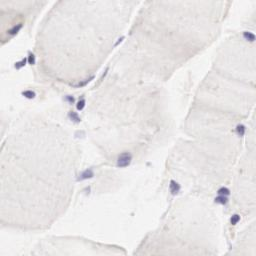nucleus: (76, 166, 96, 181), (73, 75, 95, 87), (6, 23, 23, 38), (116, 151, 133, 166), (169, 179, 181, 195), (68, 111, 81, 124), (235, 123, 247, 137), (14, 58, 27, 70), (243, 30, 256, 42), (113, 34, 125, 46), (21, 90, 37, 99), (230, 213, 241, 225), (216, 185, 230, 194), (76, 99, 87, 110), (213, 196, 228, 204), (62, 95, 76, 102), (29, 51, 37, 62), (101, 67, 109, 77)
